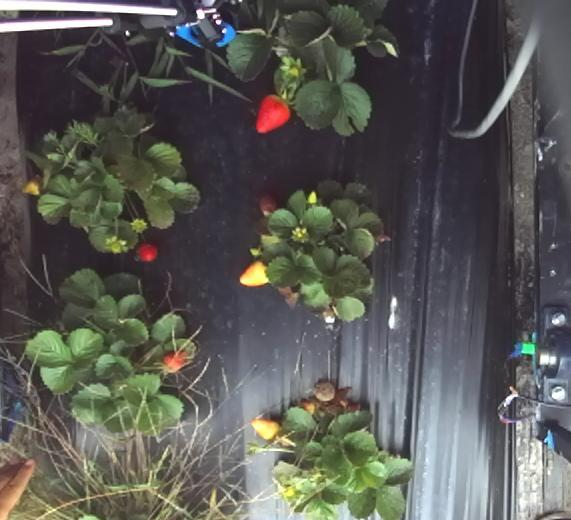mature: (254, 93, 291, 134), (161, 349, 188, 373), (135, 241, 157, 262)
